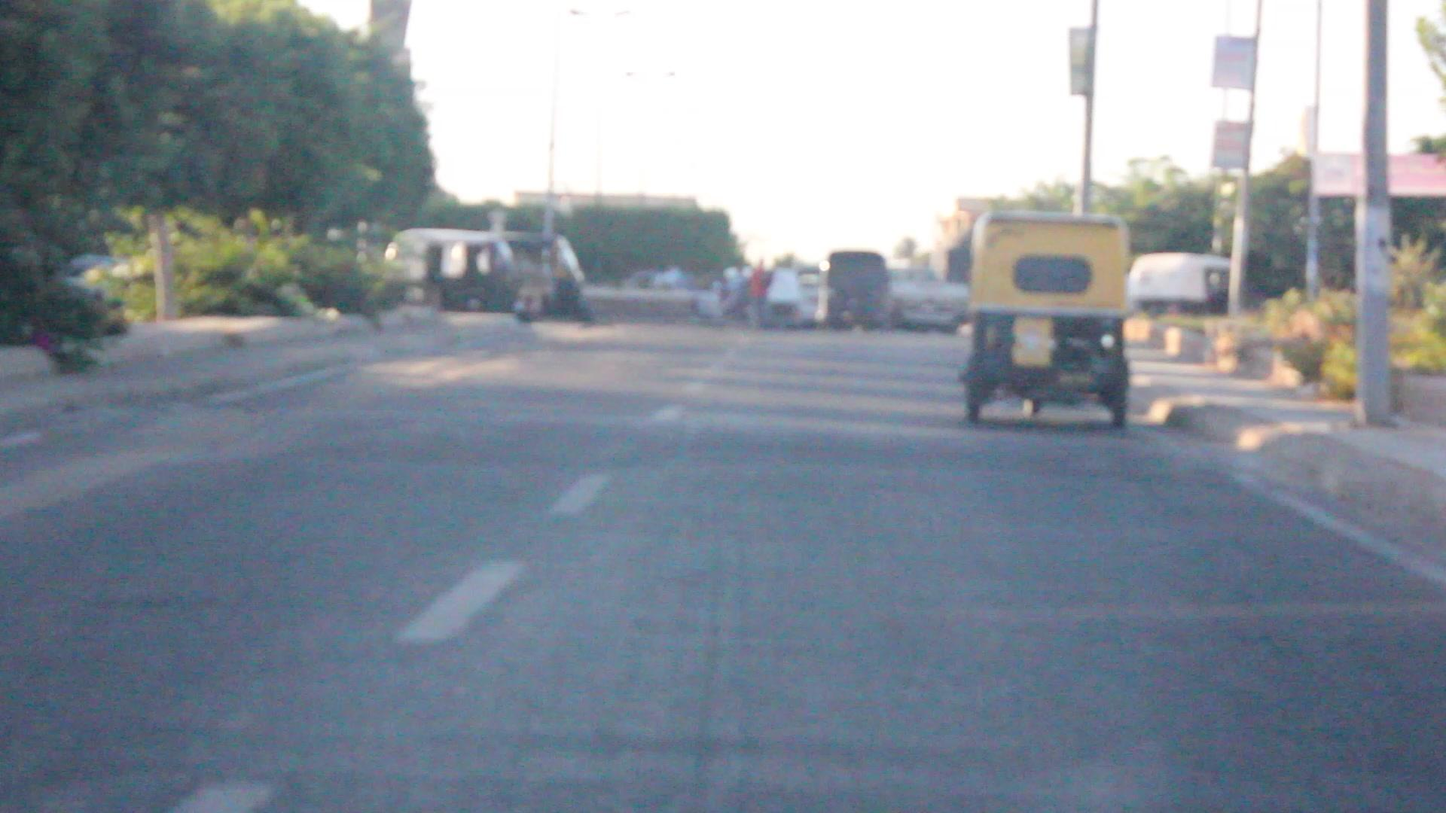Bump: (226, 401, 1229, 472)
